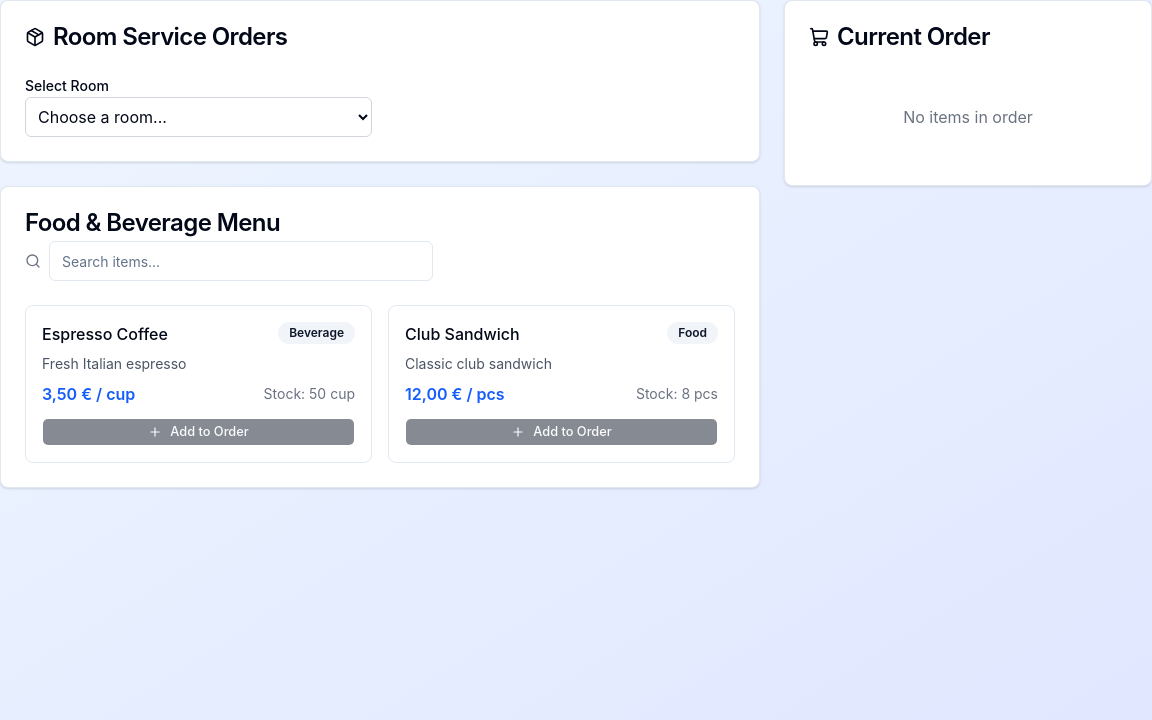
Test: RoomServiceOrders › adding items to order › adds an item to the order when Add to Order is clicked
// Select a room first
Select "Room 101 - BD" in the dropdown at x=198, y=117, box [25,97,372,137]
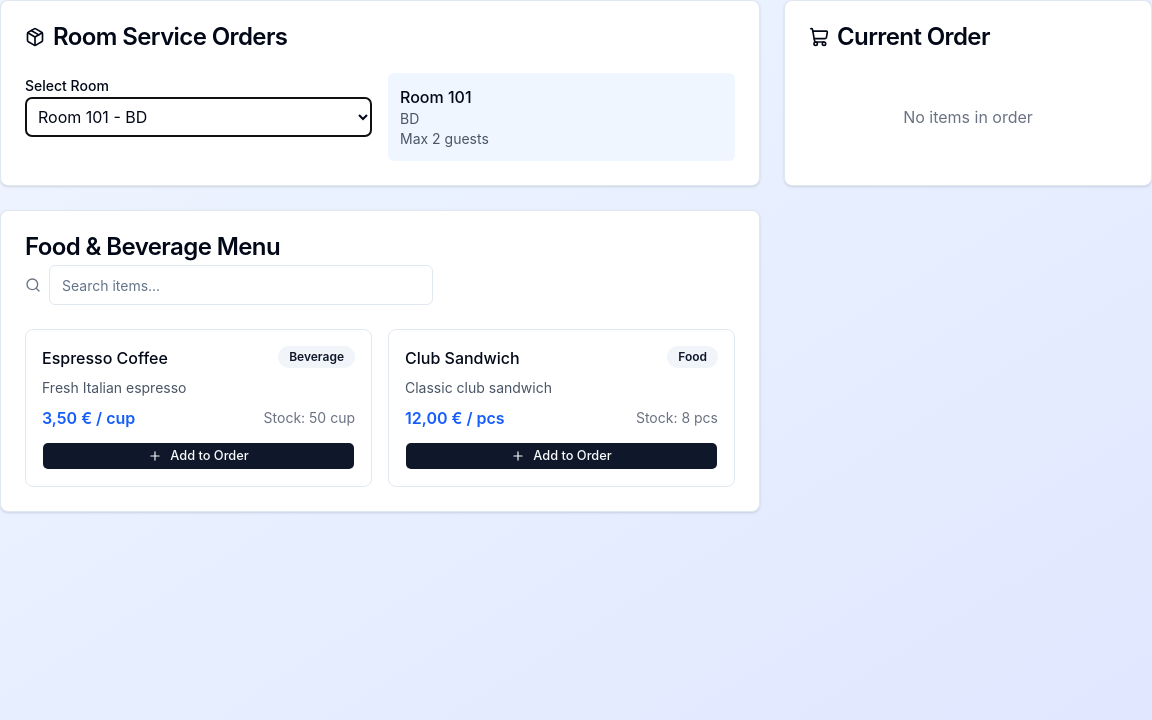
// Click the first Add to Order button
Click the button "Add to Order" below "3,50 €".
click(198, 456)  # box [42,442,355,470]
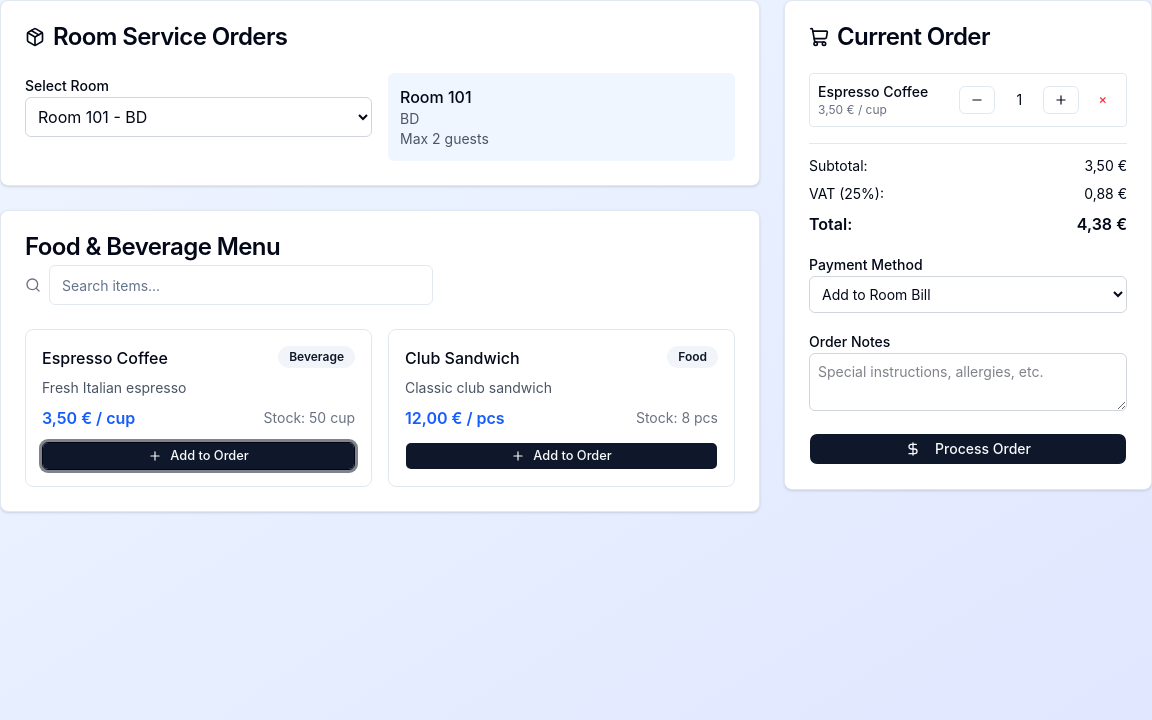
Check: the text "No items in order" is gone
